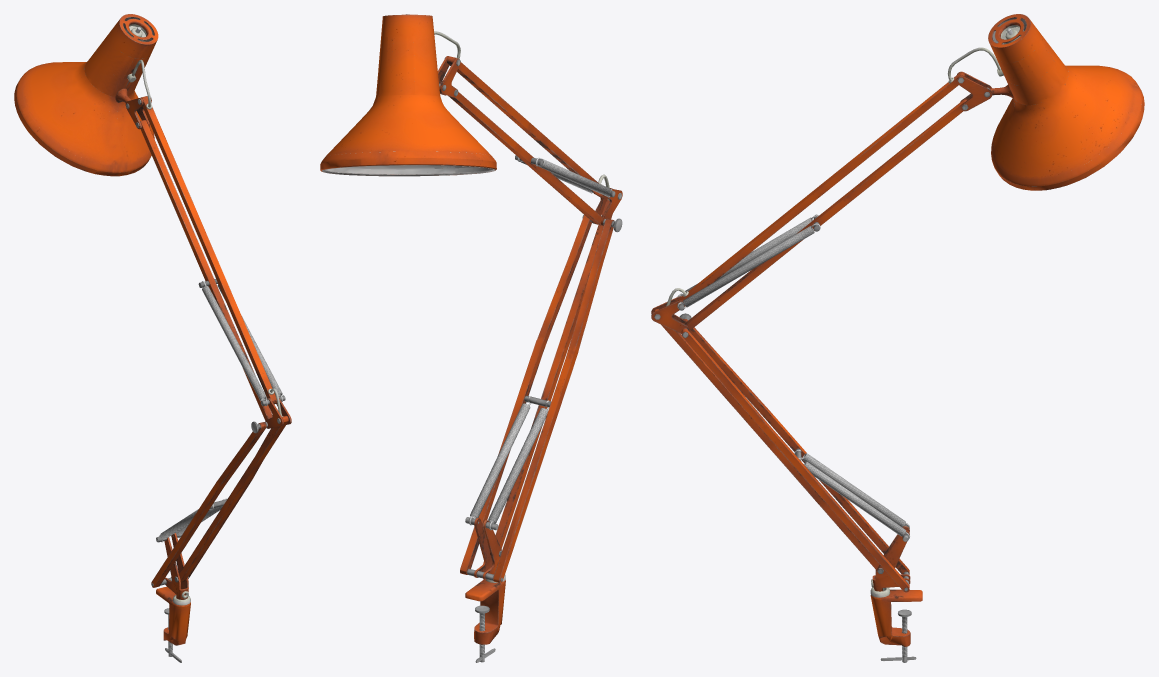
File: desk_lamp_arm_01.glb
3 views of the same model, side by side, from view 1: azimuth 30°, elevation 25°; view 2: azimuth 150°, elevation 25°; view 3: azimuth 270°, elevation 25° (orthographic). The views are drawn at different scales.
Visible parts, largest first — view 1: desk_lamp_arm_01; view 2: desk_lamp_arm_01; view 3: desk_lamp_arm_01.
Part boxes in pixels (x1,y1,x2,y2): desk_lamp_arm_01: [14, 14, 291, 662]; desk_lamp_arm_01: [320, 14, 622, 662]; desk_lamp_arm_01: [651, 14, 1144, 662].
Bounding box in the file's own units: 0.202 × 0.8926 × 0.6141.
Materials: 2 (2 with a texture image).
